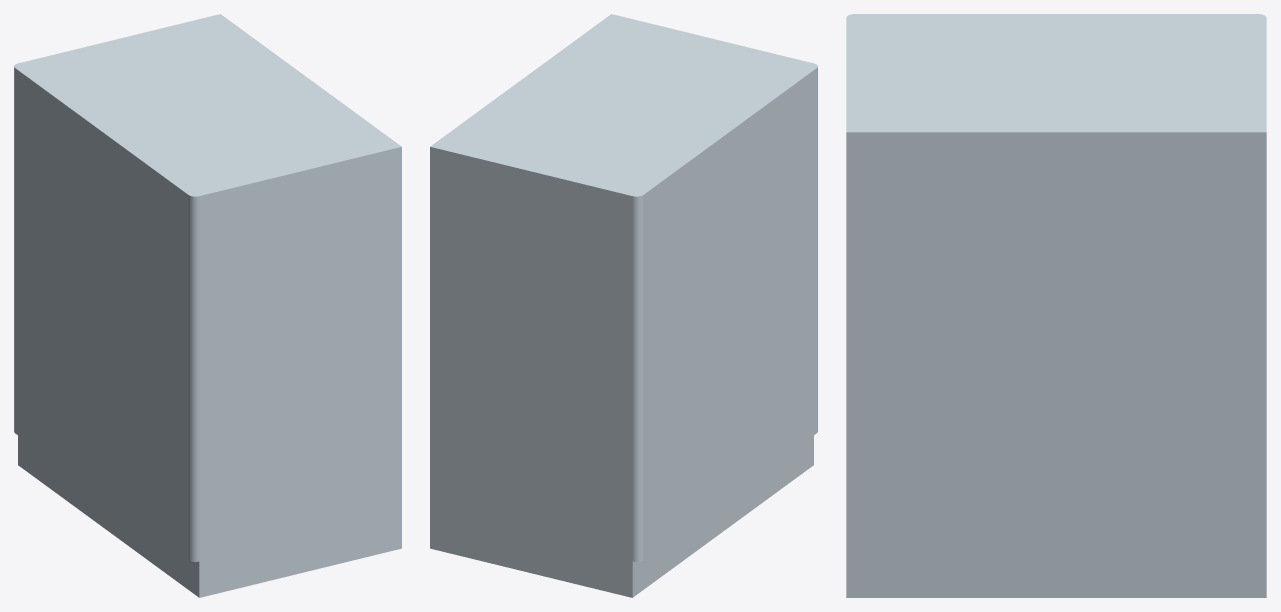
Rendered from table.glb.
3 renders of one model, left to right at view 1: azimuth 30°, elevation 25°; view 2: azimuth 150°, elevation 25°; view 3: azimuth 270°, elevation 25°, orthographic. The views are drawn at different scales.
Visible parts, largest first — view 1: 3. Гардеробная, object 2, object 5; view 2: 3. Гардеробная, object 2, object 5; view 3: 3. Гардеробная, object 2.
Boxes of the visible parts, <box> form: 3. Гардеробная: <box>18,14,401,597</box>; object 2: <box>14,63,199,379</box>; object 5: <box>14,250,199,561</box>; 3. Гардеробная: <box>430,14,813,597</box>; object 2: <box>632,63,817,379</box>; object 5: <box>632,250,817,561</box>; 3. Гардеробная: <box>846,18,1266,597</box>; object 2: <box>846,14,1266,17</box>.
Bounding box in the file's own units: 0.6 × 1.1 × 0.9.
Materials: 1 (1 with a texture image).
